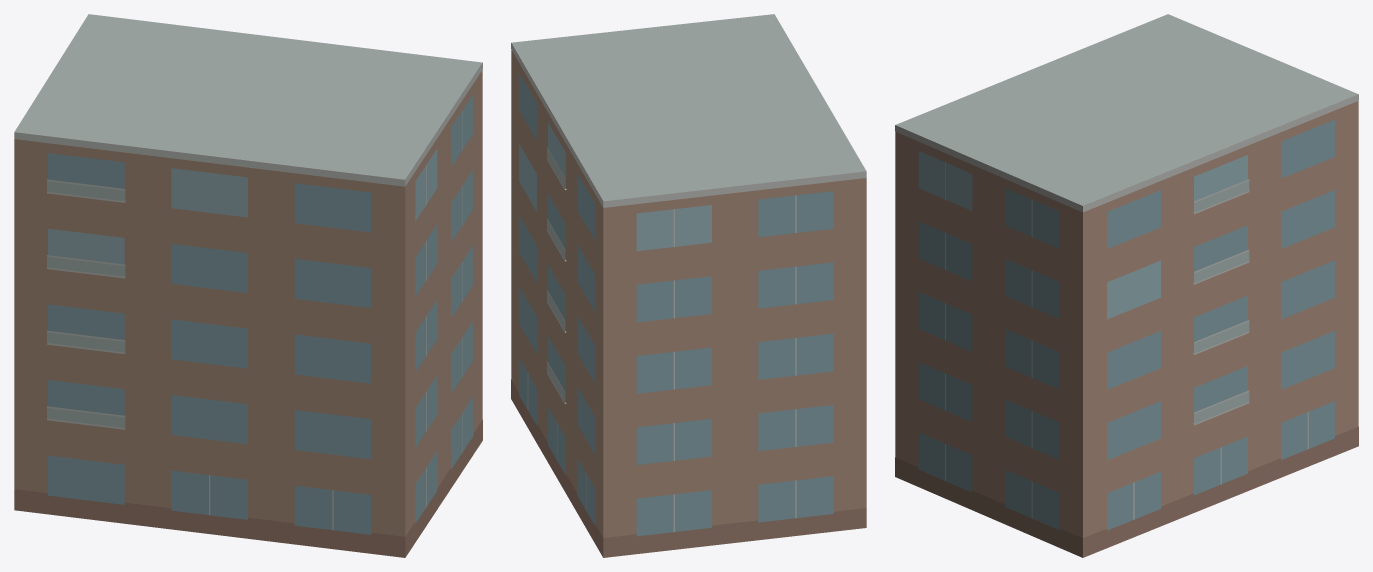
File: survey-upis-32953651.glb
3 renders of one model, left to right at view 1: azimuth 30°, elevation 25°; view 2: azimuth 150°, elevation 25°; view 3: azimuth 270°, elevation 25°, orthographic. The views are drawn at different scales.
Parts seen in each view (by area): view 1: survey-upis-32953651.tmp; view 2: survey-upis-32953651.tmp; view 3: survey-upis-32953651.tmp.
Boxes of the visible parts, <box> form: survey-upis-32953651.tmp: <box>14,14,482,557</box>; survey-upis-32953651.tmp: <box>511,14,866,557</box>; survey-upis-32953651.tmp: <box>895,14,1358,557</box>.
Size of the model in its own units: 15.63 by 13.35 by 15.95.
